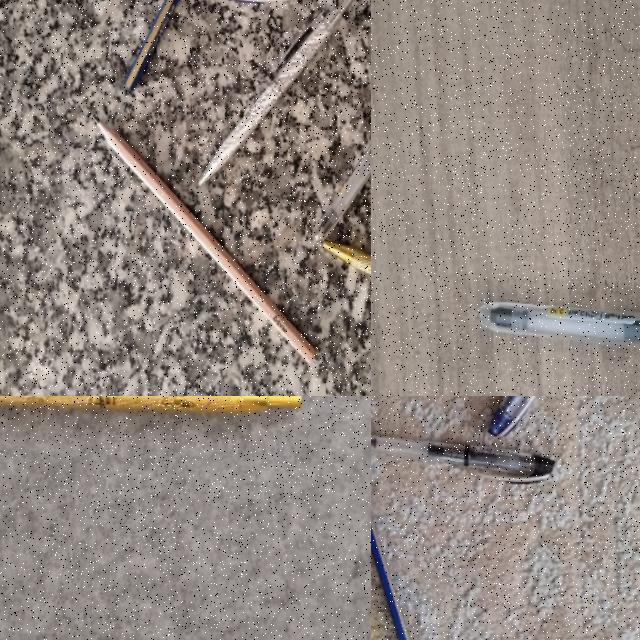pen: (311, 22, 371, 241), (371, 428, 549, 481), (478, 302, 639, 345)
pencil: (96, 120, 308, 358), (371, 514, 410, 640), (124, 0, 176, 89)
signature pen: (200, 0, 351, 184), (322, 235, 371, 341), (0, 396, 301, 412)
